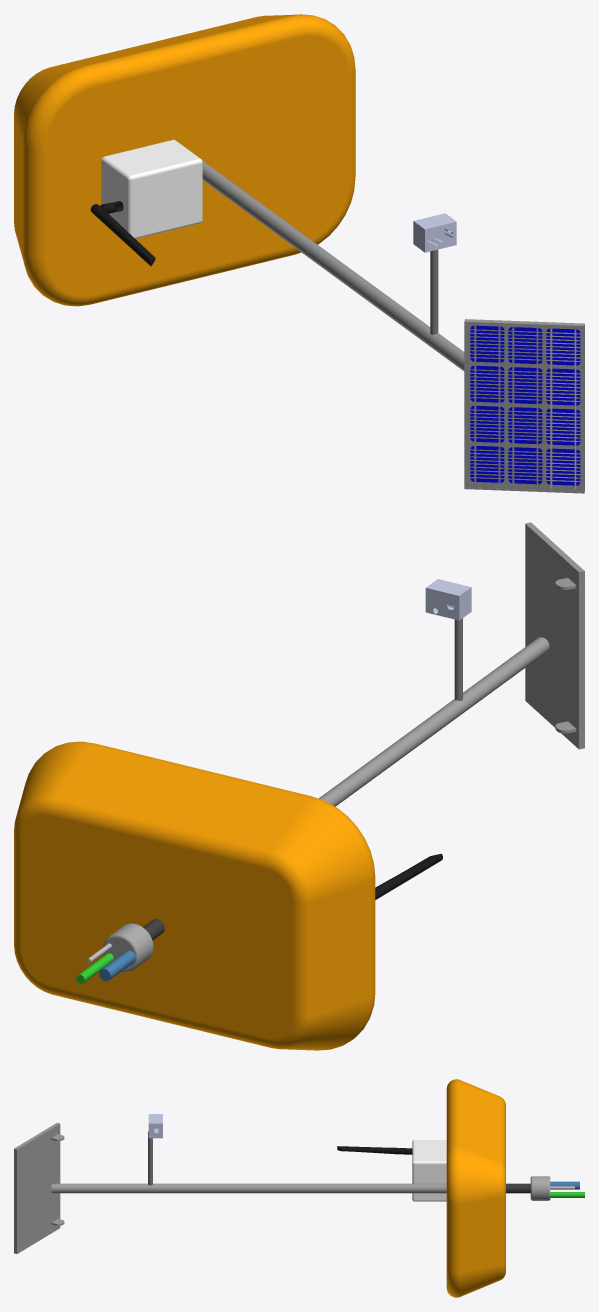
The model's file is qocha_nawi.obj.
3 views of the same model, one above another, from view 1: azimuth 30°, elevation 25°; view 2: azimuth 150°, elevation 25°; view 3: azimuth 270°, elevation 25° (orthographic). The views are drawn at different scales.
Visible parts, largest first — view 1: Cuerpo2, Cuerpo1:9, Cuerpo1:1, Cuerpo1, Cuerpo1:17, Cuerpo1:15, Cuerpo1:3; view 2: Cuerpo2, Cuerpo1:9, Cuerpo1, Cuerpo1:5, Cuerpo1:16, Cuerpo1:15, Cuerpo1:3; view 3: Cuerpo2, Cuerpo1:9, Cuerpo1, Cuerpo1:1, Cuerpo1:5, Cuerpo1:15.
Boxes of the visible parts, x1,y1,x2,y2 form: Cuerpo2: (14, 14, 355, 306); Cuerpo1:9: (464, 319, 584, 493); Cuerpo1:1: (101, 139, 202, 238); Cuerpo1: (202, 160, 464, 371); Cuerpo1:17: (421, 219, 456, 252); Cuerpo1:15: (96, 209, 155, 266); Cuerpo1:3: (430, 249, 438, 334); Cuerpo2: (14, 741, 375, 1050); Cuerpo1:9: (525, 522, 584, 749); Cuerpo1: (319, 637, 549, 806); Cuerpo1:5: (103, 923, 153, 972); Cuerpo1:16: (425, 582, 467, 620); Cuerpo1:15: (375, 853, 442, 899); Cuerpo1:3: (454, 618, 462, 700); Cuerpo2: (446, 1079, 505, 1297); Cuerpo1:9: (14, 1122, 64, 1253); Cuerpo1: (51, 1183, 446, 1193); Cuerpo1:1: (412, 1140, 446, 1201); Cuerpo1:5: (530, 1176, 550, 1200); Cuerpo1:15: (337, 1146, 412, 1154).
Bounding box in the file's own units: 47.99 × 32.99 × 116.
